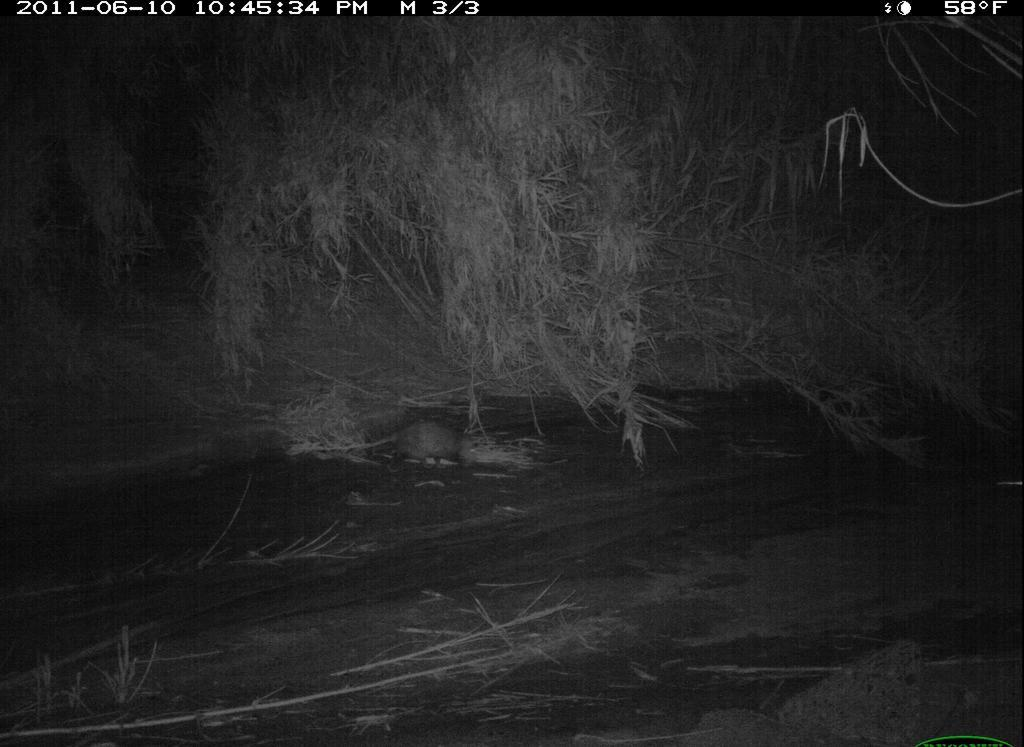opossum: (322, 413, 479, 477)
